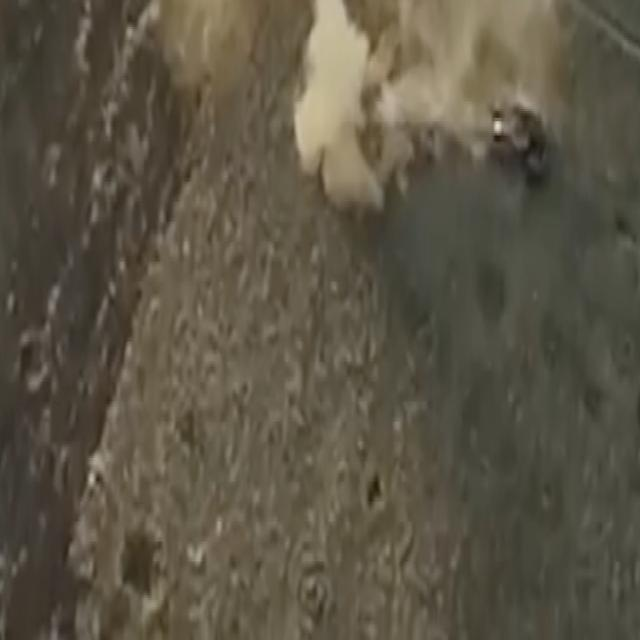vehicle: (490, 98, 548, 183)
